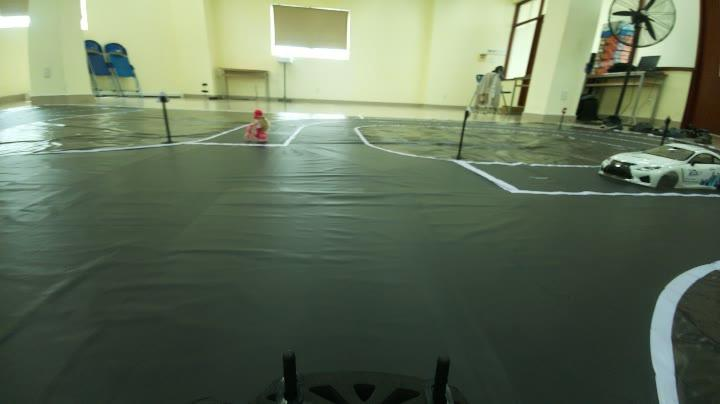car: (600, 132, 717, 195)
